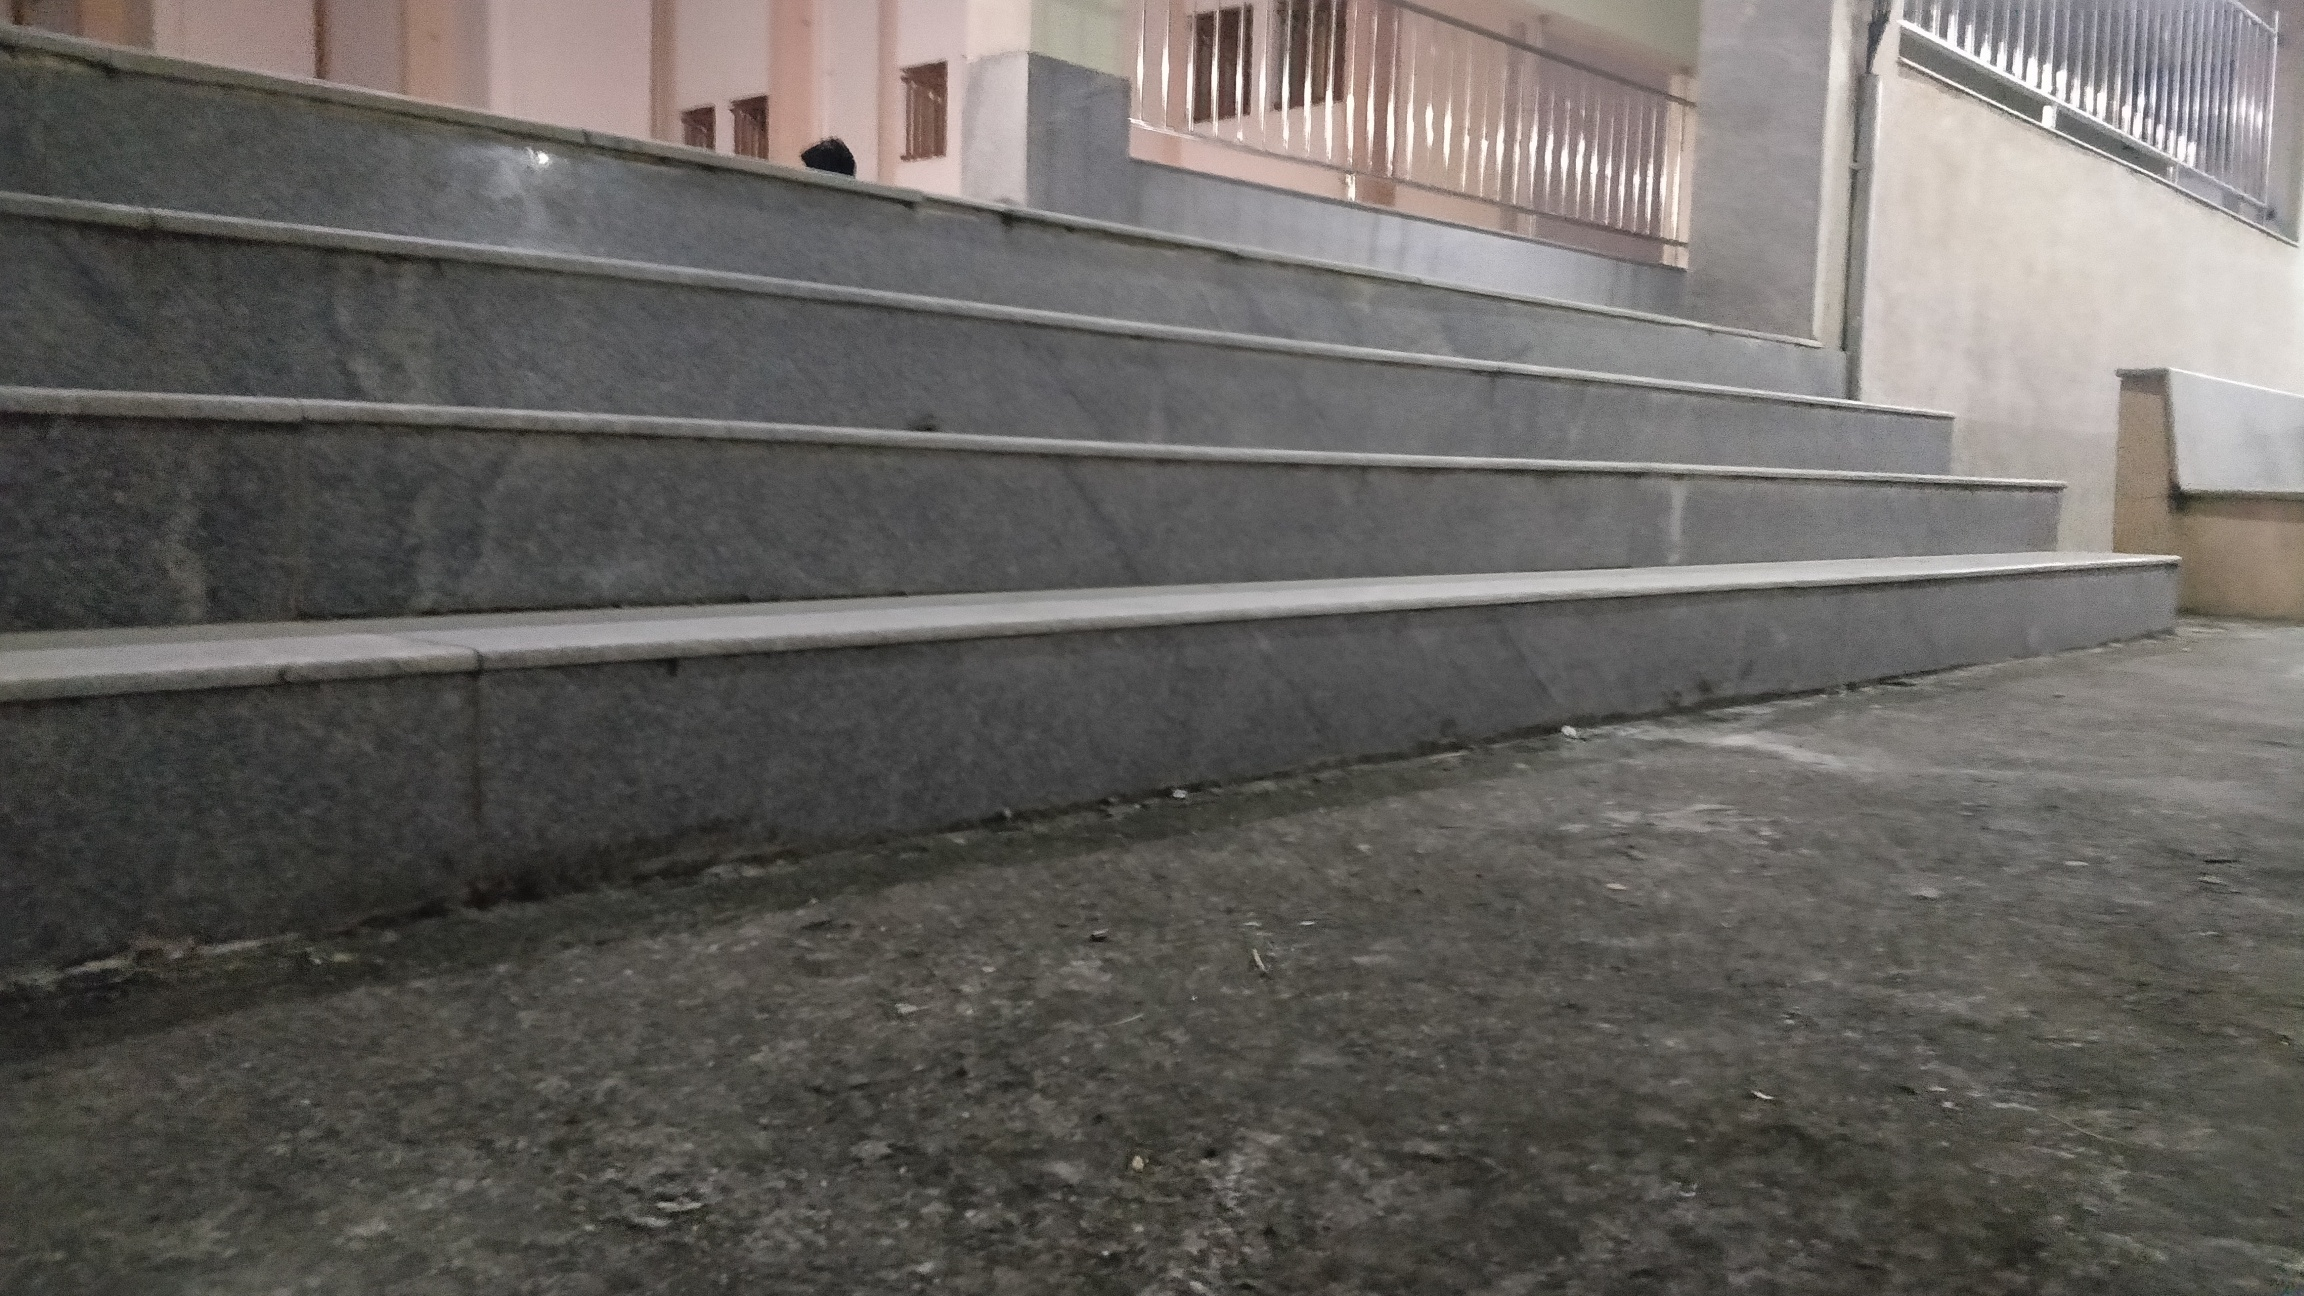stairs_up: (44, 93, 1919, 744)
